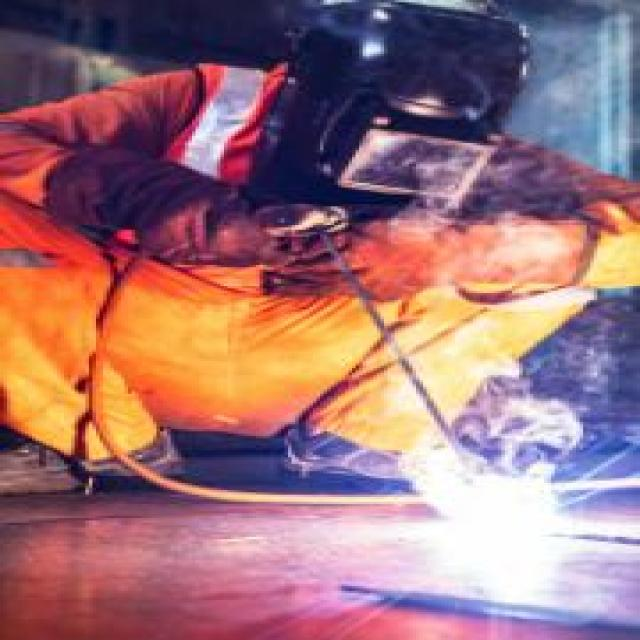welding: (442, 476, 566, 553)
